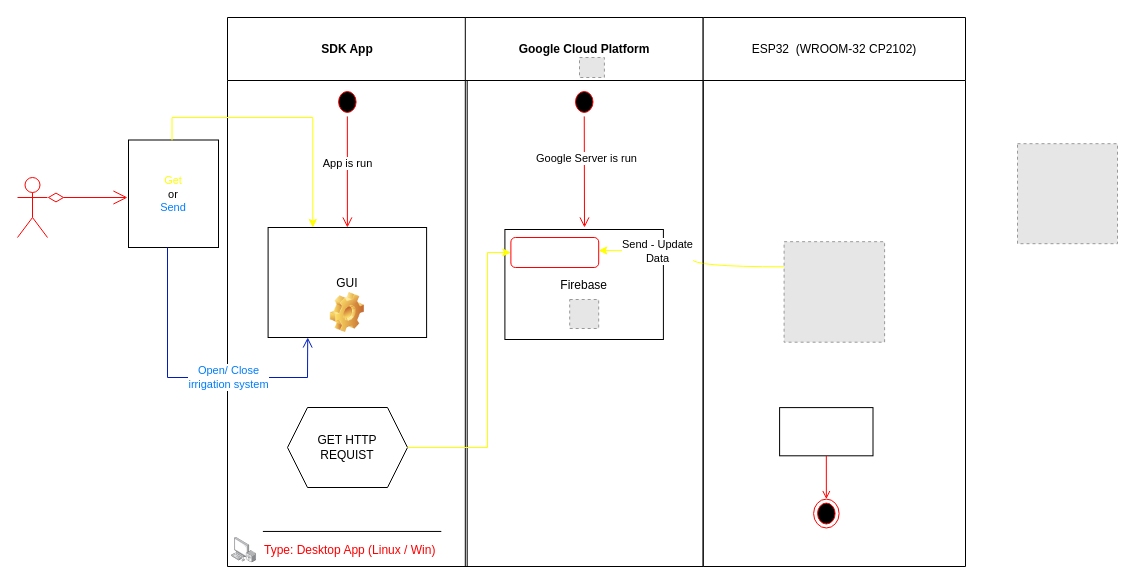
Some shapes in this 1135 by 584 pixel diagram are drawn without their labels. Grey dashed boxes stand in for pictures. The shapes that lost their labels are listed below. From the top down, each one's centre as x and y in pixels, then its label:
At point 32,207: "User".
At point 554,252: "RTDB (Real Time DB)".
At point 826,431: "process command".
